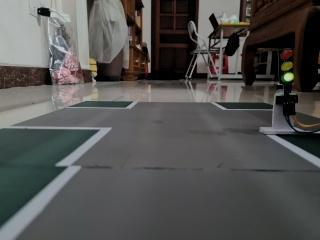green: (271, 36, 306, 92)
